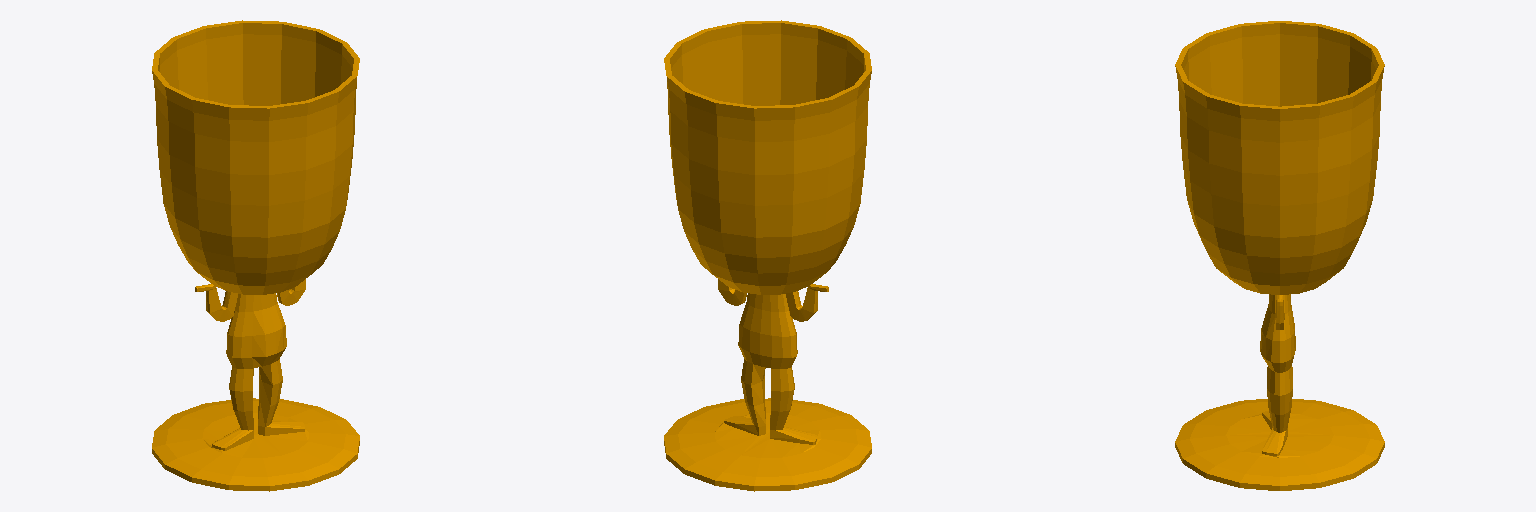
URDF robot description (tiki-glass.off):
<?xml version="1.0"?>
<robot name="tiki-glass.off">
	<link name="tiki-glass.off">
		<inertial>
			<!--origin xyz="0 0 0" rpy="0 0 0" /-->
			<mass value="0.5" />
			<!--inertia ixx="0.000360" ixy="0" ixz="0" iyy="0.0000615" iyz="0" izz="0.00036" /-->
		</inertial>
    		<visual>
	      		<!--origin rpy="0 0 0" xyz="0 0 0"/-->
      			<geometry>
        			<mesh filename="tiki-glass.off.obj"/>
      			</geometry>
         	</visual>
    		<collision>
      			<!--origin rpy="0 0 0" xyz="0 0 0"/-->
      			<geometry>
        			<mesh filename="tiki-glass.off.obj"/>
      			</geometry>
    		</collision>
	</link>
</robot>

--- Facts derived from the render (not from the file) ---
Views: 3 orthographic renders of the robot side by side, from view 1: azimuth 30°, elevation 25°; view 2: azimuth 150°, elevation 25°; view 3: azimuth 270°, elevation 25°.
Model tiki-glass.off with 1 links and 0 joints (none), rooted at tiki-glass.off, posed every joint at zero.
Links seen in each view (by area): view 1: tiki-glass.off; view 2: tiki-glass.off; view 3: tiki-glass.off.
Boxes of the visible links, left/top/right/bottom form: tiki-glass.off: left=152, top=20, right=359, bottom=491; tiki-glass.off: left=664, top=20, right=871, bottom=491; tiki-glass.off: left=1175, top=21, right=1384, bottom=490.
Size in the robot's own frame: 8.96 by 8.96 by 18 metres.
Meshes: 1 distinct files referenced, 1 mesh visuals loaded (1 OBJ).